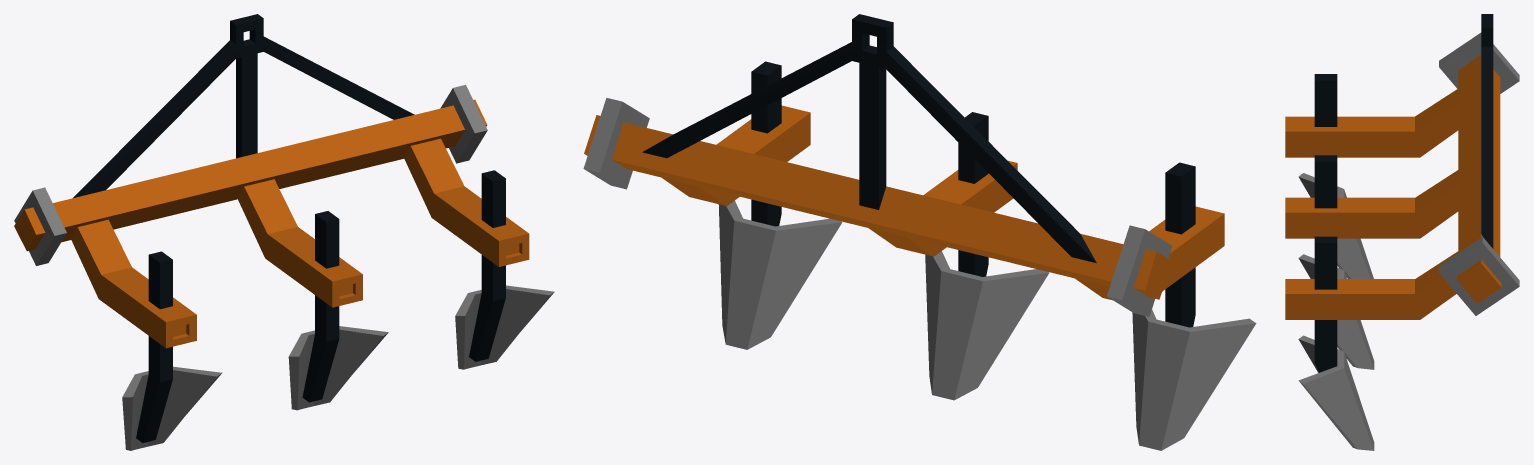
Rendered from Agricultural_Machine_1.fbx.
3 views of the same model, side by side, from view 1: azimuth 30°, elevation 25°; view 2: azimuth 150°, elevation 25°; view 3: azimuth 270°, elevation 25° (orthographic). The views are drawn at different scales.
Visible parts, largest first — view 1: Agricultural_Machine_1; view 2: Agricultural_Machine_1; view 3: Agricultural_Machine_1.
Part boxes in pixels (x1,y1,x2,y2): Agricultural_Machine_1: (14,14,554,450); Agricultural_Machine_1: (583,14,1256,450); Agricultural_Machine_1: (1285,14,1519,450).
Size of the model in its own units: 97.13 by 70.86 by 43.66.
